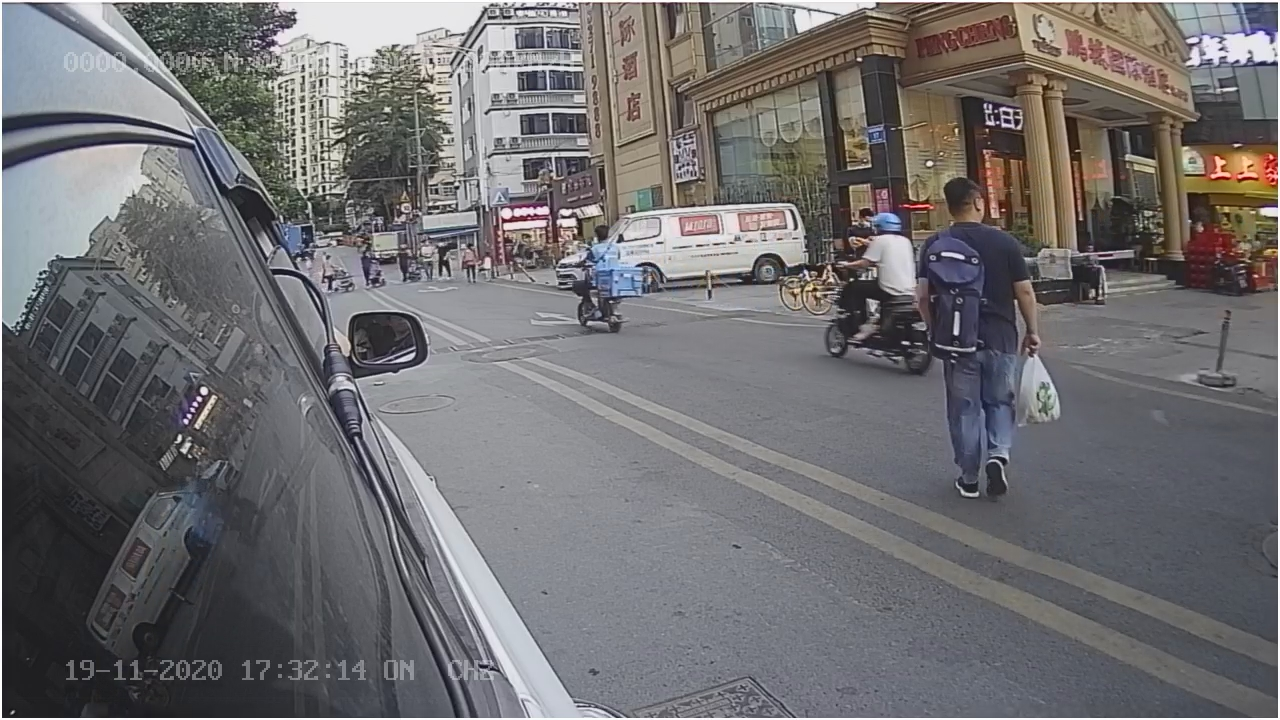person: (927, 181, 1037, 495)
